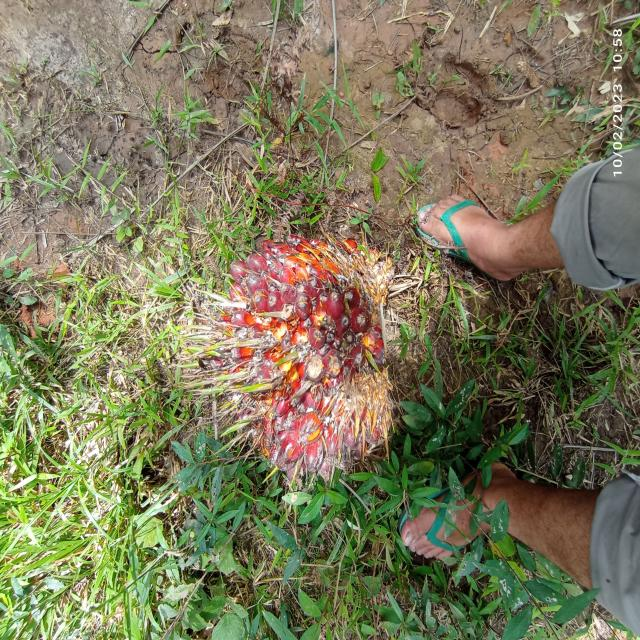fraksi 3: (163, 193, 431, 518)
